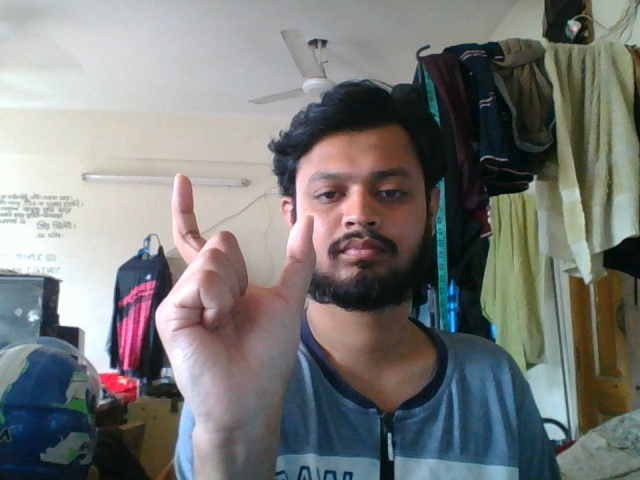chandrobindu: (152, 170, 321, 480)
